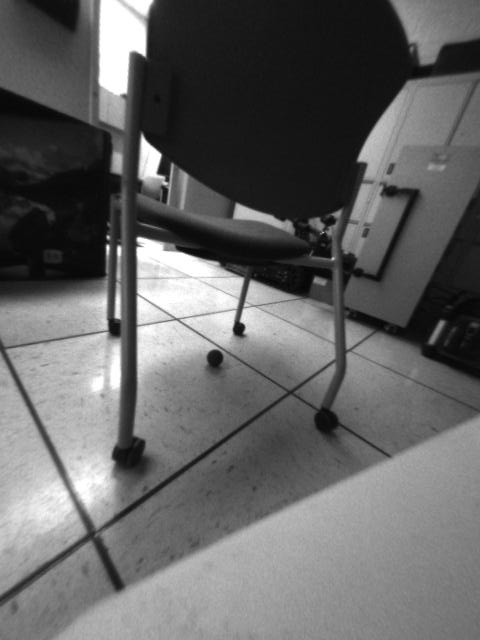dogtoy: (200, 340, 232, 374)
